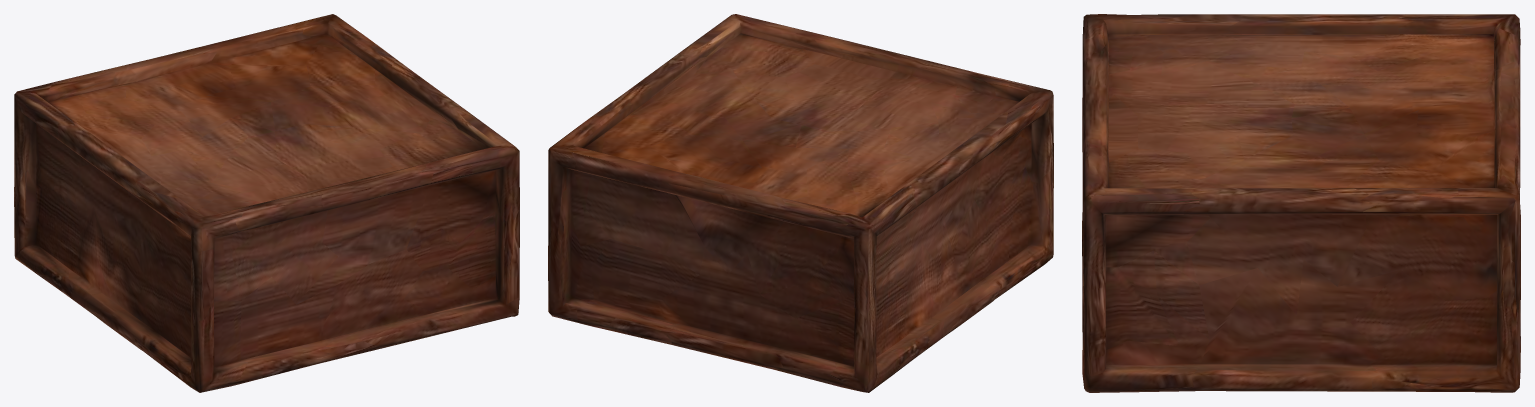
File: 木质复古装饰面板.glb
3 views of the same model, side by side, from view 1: azimuth 30°, elevation 25°; view 2: azimuth 150°, elevation 25°; view 3: azimuth 270°, elevation 25° (orthographic). The views are drawn at different scales.
Parts seen in each view (by area): view 1: tripo_node_88785015-91cf-4c98-aeea-95f5db2d1caa; view 2: tripo_node_88785015-91cf-4c98-aeea-95f5db2d1caa; view 3: tripo_node_88785015-91cf-4c98-aeea-95f5db2d1caa.
Part boxes in pixels (<box>): tripo_node_88785015-91cf-4c98-aeea-95f5db2d1caa: <box>14,14,519,392</box>; tripo_node_88785015-91cf-4c98-aeea-95f5db2d1caa: <box>548,14,1053,392</box>; tripo_node_88785015-91cf-4c98-aeea-95f5db2d1caa: <box>1082,14,1520,392</box>.
Size of the model in its own units: 1 by 0.5035 by 0.9996.
1 material, 1 textured.
